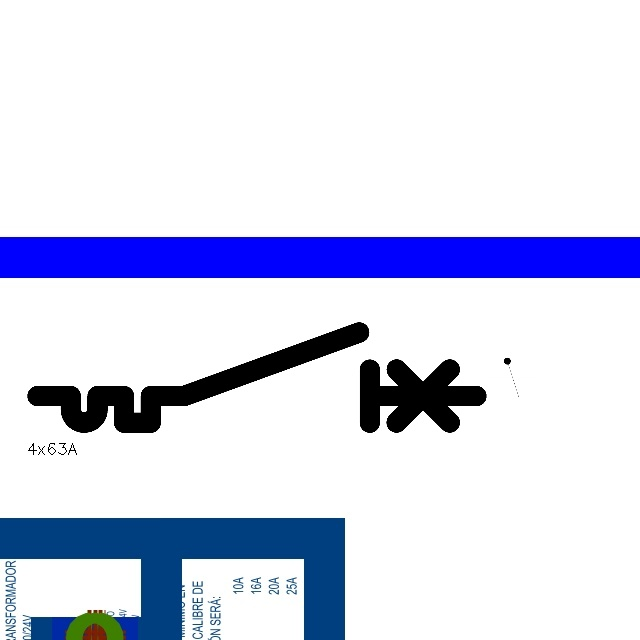interruptor_termomagnetico: (26, 321, 488, 434)
